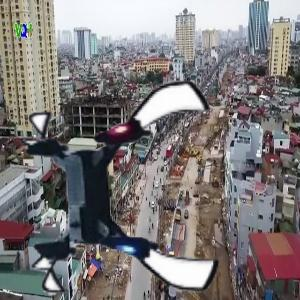drone: (17, 81, 233, 297)
